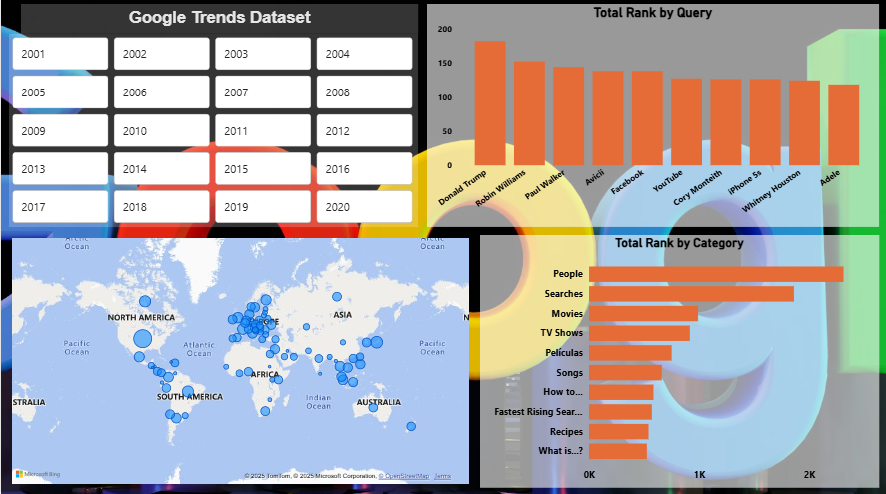

What the dashboard file says about the page in this screenshot:
{"tool":"powerbi","page":{"name":"Page 1","canvas":[1280,720],"ordinal":0},"visuals":[{"type":"map","fields":{"Category":["trends.location"],"Size":["CountNonNull(trends.category)"]},"box":[11.5,344.2,666.7,364.3],"z":0},{"type":"clusteredBarChart","title":"Total Rank by Category","fields":{"Category":["trends.category"],"Y":["Sum(trends.rank)"]},"box":[689.8,344.2,574.6,364.3],"z":1000},{"type":"clusteredColumnChart","title":"Total Rank by Query","fields":{"Category":["trends.query"],"Y":["Sum(trends.rank)"]},"box":[613.4,11.5,650.9,321.1],"z":2000},{"type":"advancedSlicerVisual","fields":{"Values":["trends.year"]},"box":[11.5,54.7,589,277.9],"z":3000},{"type":"textbox","box":[28.8,11.5,571.7,43.2],"z":4000}]}

Visuals, with their boxes in screenshot pixels (x1, y1, x2, y2), scaled from the page's 1280x720 canvas onto the 886x494 screenshot:
map - trends.location x CountNonNull(trends.category): <bbox>8, 236, 469, 486</bbox>
"Total Rank by Category" clusteredBarChart: <bbox>477, 236, 875, 486</bbox>
"Total Rank by Query" clusteredColumnChart: <bbox>425, 8, 875, 228</bbox>
advancedSlicerVisual - trends.year: <bbox>8, 38, 416, 228</bbox>
textbox: <bbox>20, 8, 416, 38</bbox>
